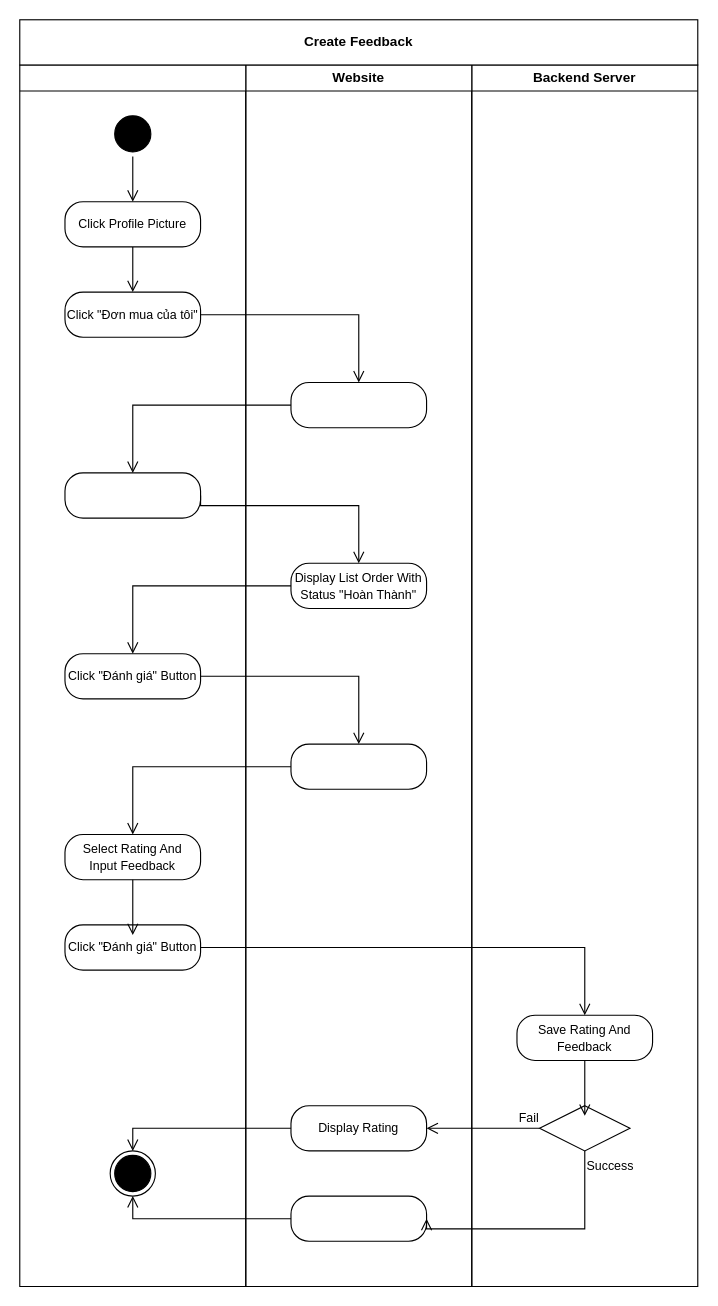
Some shapes in this 718 by 1306 pixel diagram are drawn without their labels. Each missing label, with the box of its shape:
Customer: (19, 64, 246, 1287)
Display List Order: (290, 381, 427, 428)
Display Rating And Feedback: (290, 1195, 427, 1241)
Popup Rating And Feedback Form: (290, 743, 427, 789)
Select Order Status "Hoàn thành": (64, 472, 201, 518)
